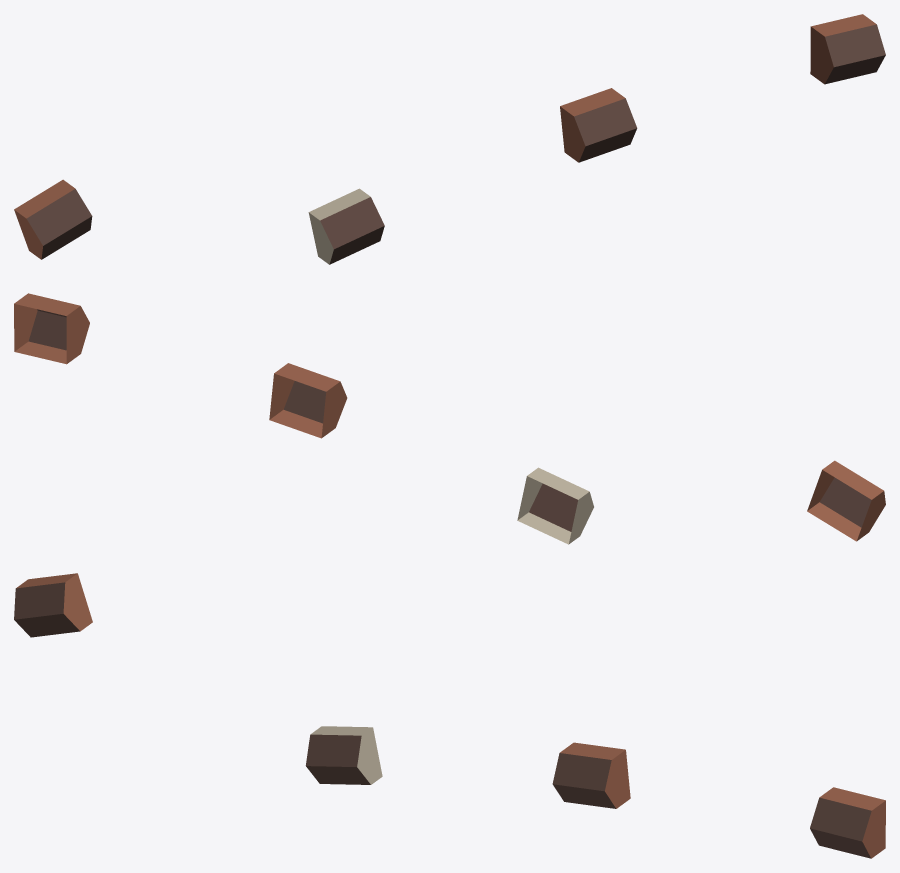
File: island_bldg_03_08.obj
The picture shows the model from 3 angles, top to bottom: view 1: azimuth 30°, elevation 25°; view 2: azimuth 150°, elevation 25°; view 3: azimuth 330°, elevation 25°; orthographic projection.
Visible parts, largest first — view 1: island_bldg_03_08; view 2: island_bldg_03_08; view 3: island_bldg_03_08.
Boxes of the visible parts, x1=… form: island_bldg_03_08: x1=14, y1=14, x2=885, y2=264; island_bldg_03_08: x1=14, y1=293, x2=885, y2=544; island_bldg_03_08: x1=14, y1=573, x2=885, y2=858.
Bounding box in the file's own units: 261 × 40.36 × 14.16.
